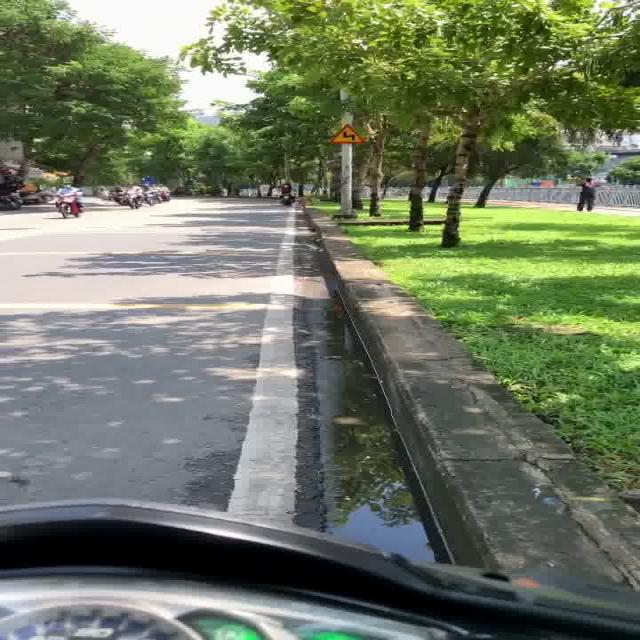Bien bao nhieu cho ngoat nguy hiem lien tiep: (319, 123, 371, 145)
